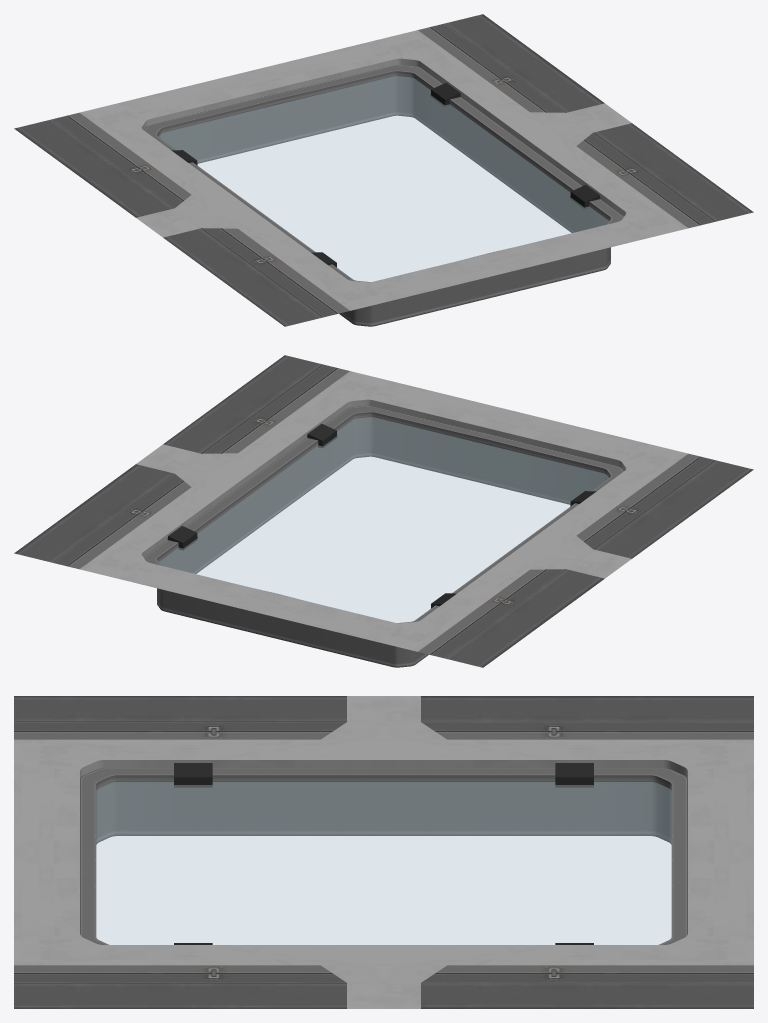
The model's file is sf_glass_floor_wide.glb.
3 renders of one model, top to bottom at view 1: azimuth 30°, elevation 25°; view 2: azimuth 150°, elevation 25°; view 3: azimuth 270°, elevation 25°, orthographic. The views are drawn at different scales.
Parts seen in each view (by area): view 1: Platform_Window_Wide; view 2: Platform_Window_Wide; view 3: Platform_Window_Wide.
Part boxes in pixels (x1=…): Platform_Window_Wide: x1=14, y1=14, x2=753, y2=326; Platform_Window_Wide: x1=14, y1=355, x2=753, y2=667; Platform_Window_Wide: x1=14, y1=696, x2=753, y2=1008.
Bounding box in the file's own units: 4 × 0.4133 × 4.
Materials: 4 (3 with a texture image).
